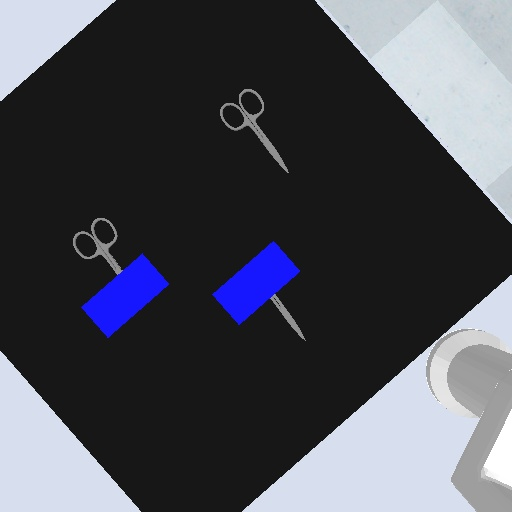tijera: (217, 85, 294, 179), (71, 216, 124, 277), (267, 291, 308, 344)
